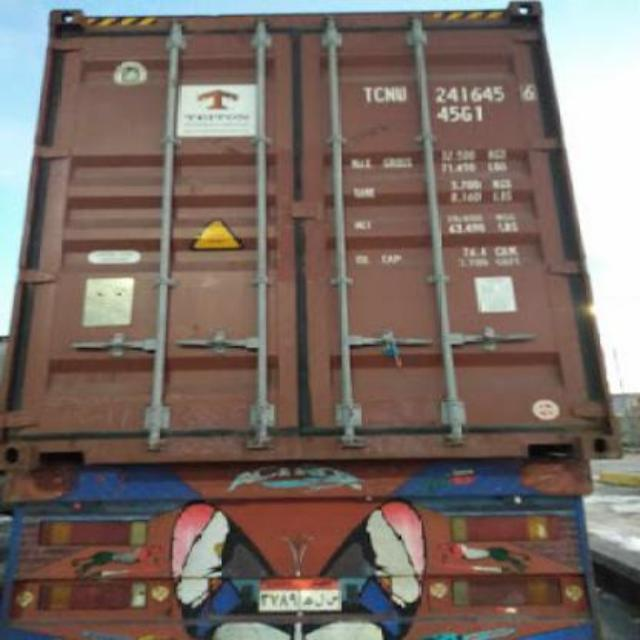1: (458, 82, 472, 105)
2: (434, 81, 446, 102)
4: (481, 80, 494, 106), (446, 84, 458, 105)
5: (492, 83, 508, 103)
6: (520, 78, 540, 104), (471, 80, 484, 108)
C: (374, 80, 386, 106)
N: (384, 78, 396, 105)
T: (361, 83, 374, 107)
U: (394, 84, 412, 105)
